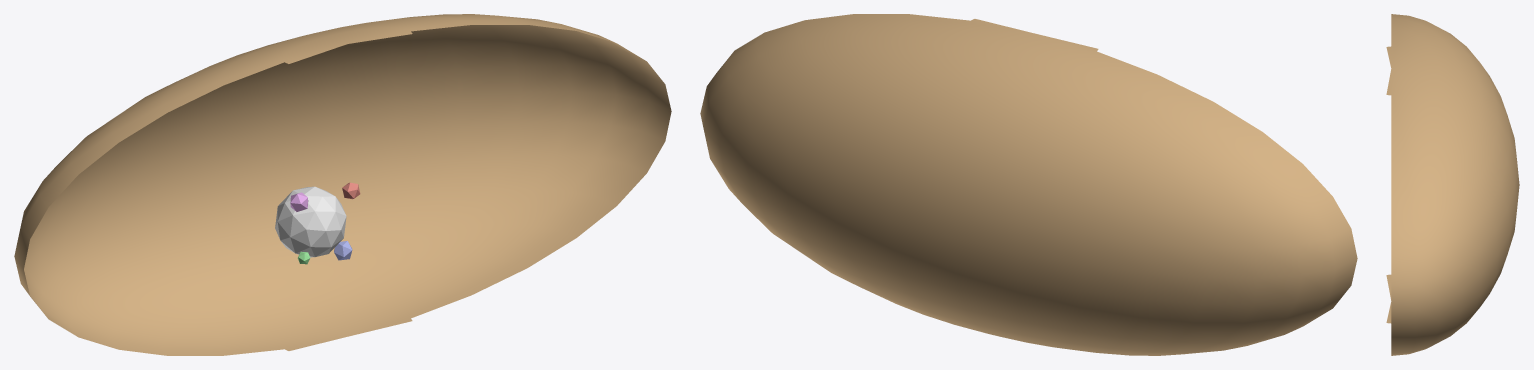
The model's file is tile-2.glb.
3 renders of one model, left to right at view 1: azimuth 30°, elevation 25°; view 2: azimuth 150°, elevation 25°; view 3: azimuth 270°, elevation 25°, orthographic. The views are drawn at different scales.
Parts seen in each view (by area): view 1: Background, Icosphere; view 2: Background; view 3: Background.
Boxes of the visible parts, x1,y1,x2,y2 form: Background: (14, 14, 671, 355); Icosphere: (275, 186, 346, 257); Background: (700, 14, 1357, 355); Background: (1386, 14, 1519, 355).
Size of the model in its own units: 28.79 by 12.43 by 6.45.
